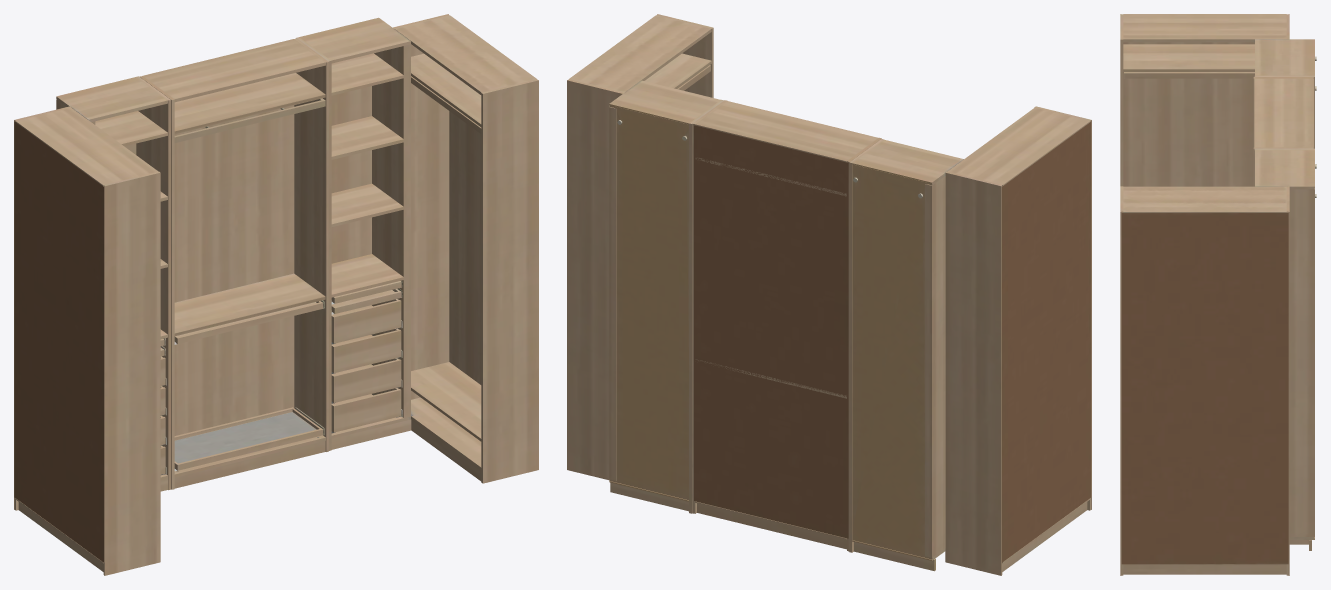
File: pax_szafa_narozna_89331351.glb
3 views of the same model, side by side, from view 1: azimuth 30°, elevation 25°; view 2: azimuth 150°, elevation 25°; view 3: azimuth 270°, elevation 25° (orthographic). The views are drawn at different scales.
Parts seen in each view (by area): view 1: pax_szafa_narozna_89331351; view 2: pax_szafa_narozna_89331351; view 3: pax_szafa_narozna_89331351.
Part boxes in pixels (<box>): pax_szafa_narozna_89331351: <box>14,14,538,575</box>; pax_szafa_narozna_89331351: <box>567,14,1091,575</box>; pax_szafa_narozna_89331351: <box>1120,14,1316,575</box>.
Size of the model in its own units: 2.76 by 2.36 by 1.16.
Materials: 2 (2 with a texture image).
